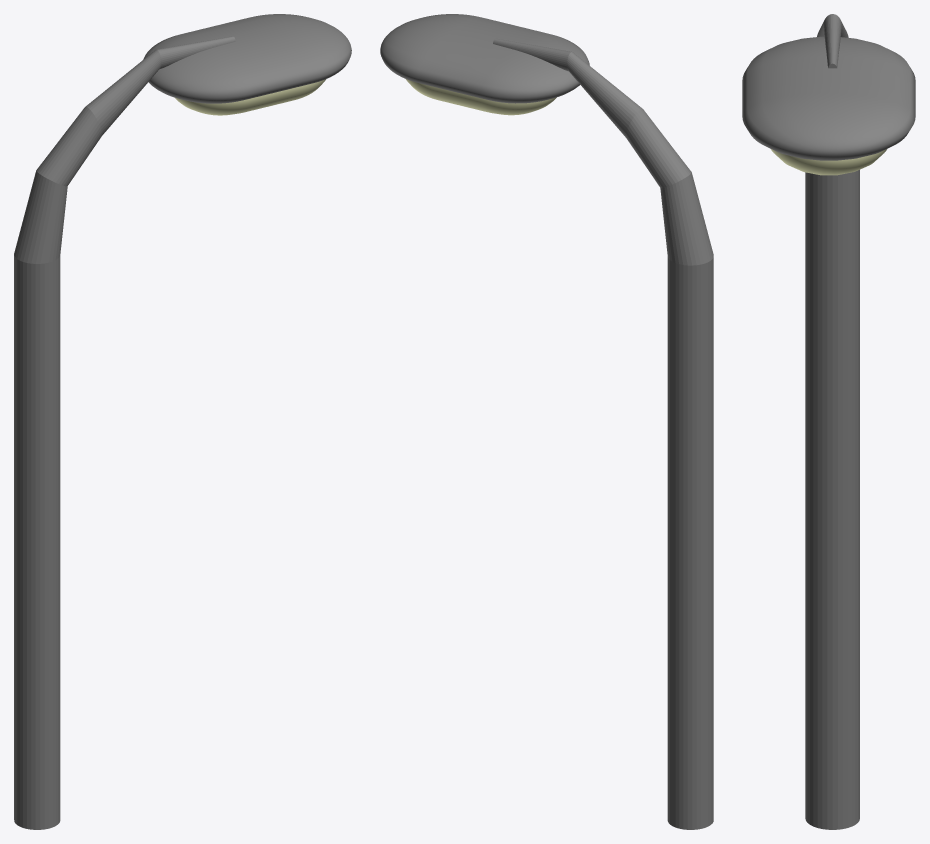
Rendered from Strassenlampe.fbx.
3 renders of one model, left to right at view 1: azimuth 30°, elevation 25°; view 2: azimuth 150°, elevation 25°; view 3: azimuth 270°, elevation 25°, orthographic. The views are drawn at different scales.
Visible parts, largest first — view 1: Capsule, Capsule.001; view 2: Capsule, Capsule.001; view 3: Capsule, Capsule.001.
Part boxes in pixels (x1,y1,x2,y2): Capsule: [14, 14, 351, 829]; Capsule.001: [175, 79, 326, 115]; Capsule: [380, 14, 713, 829]; Capsule.001: [406, 79, 556, 115]; Capsule: [742, 14, 915, 829]; Capsule.001: [771, 149, 886, 175].
Size of the model in its own units: 178 by 390 by 70.09.
